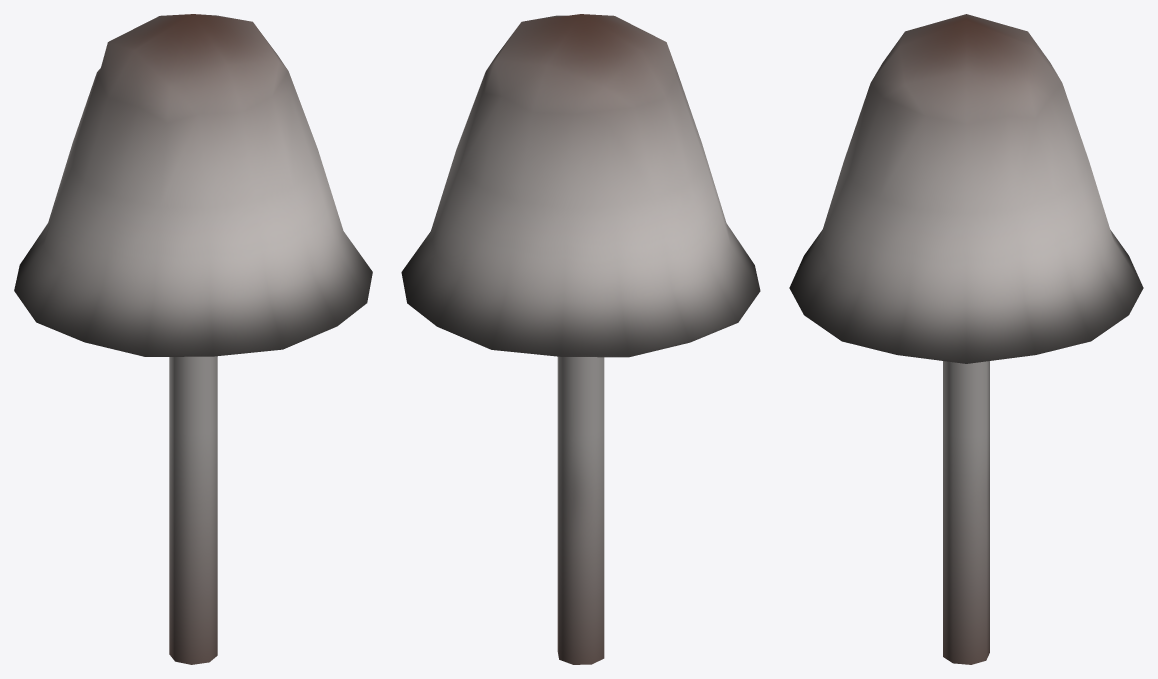
Rendered from Inky_Cap_Basic.fbx.
The picture shows the model from 3 angles, left to right: view 1: azimuth 30°, elevation 25°; view 2: azimuth 150°, elevation 25°; view 3: azimuth 270°, elevation 25°; orthographic projection.
Parts seen in each view (by area): view 1: Inky_Cap_Basic; view 2: Inky_Cap_Basic; view 3: Inky_Cap_Basic.
Boxes of the visible parts, x1,y1,x2,y2 form: Inky_Cap_Basic: (14,14,372,664); Inky_Cap_Basic: (401,14,760,664); Inky_Cap_Basic: (789,14,1143,664).
Size of the model in its own units: 7.83 by 15.25 by 7.72.
